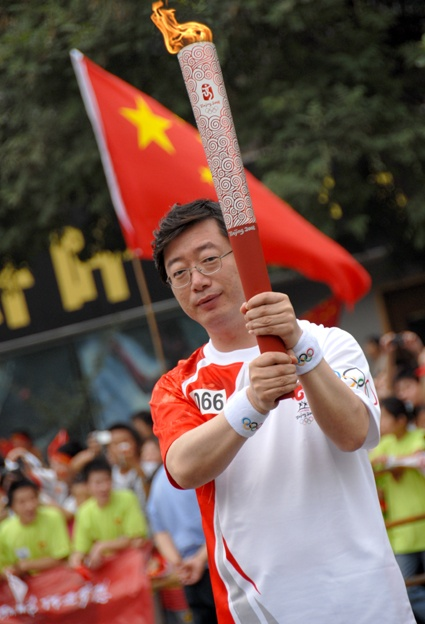fire: (150, 1, 216, 54)
